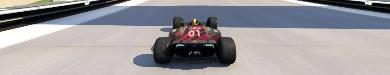Car: (151, 16, 236, 64)
